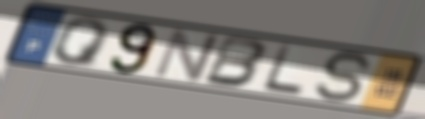9: (107, 22, 163, 77)
B: (200, 34, 271, 90)
L: (259, 42, 306, 98)
N: (149, 27, 223, 84)
Q: (50, 17, 113, 70)
S: (313, 51, 377, 105)
